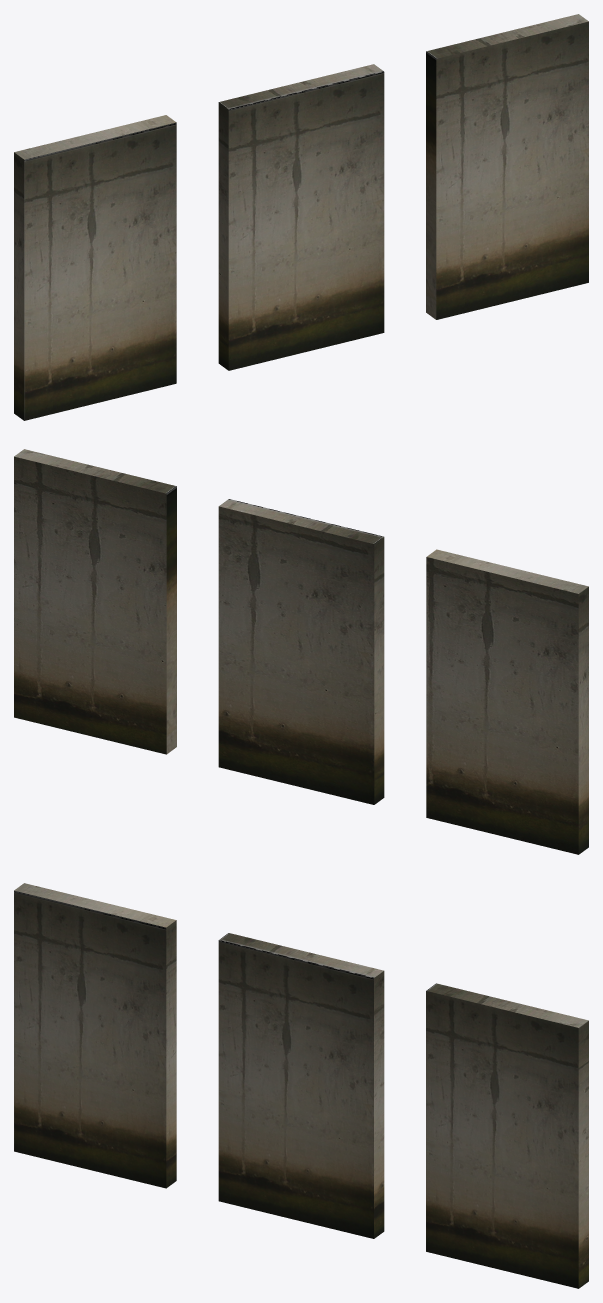
The model's file is zhamen.glb.
3 renders of one model, top to bottom at view 1: azimuth 30°, elevation 25°; view 2: azimuth 150°, elevation 25°; view 3: azimuth 330°, elevation 25°, orthographic.
Visible parts, largest first — view 1: gate; view 2: gate; view 3: gate.
Boxes of the visible parts, x1=… form: gate: x1=14, y1=14, x2=588, y2=420; gate: x1=14, y1=449, x2=588, y2=854; gate: x1=14, y1=883, x2=588, y2=1288.
Size of the model in its own units: 10.89 by 4.81 by 0.3564.
Materials: 1 (1 with a texture image).
